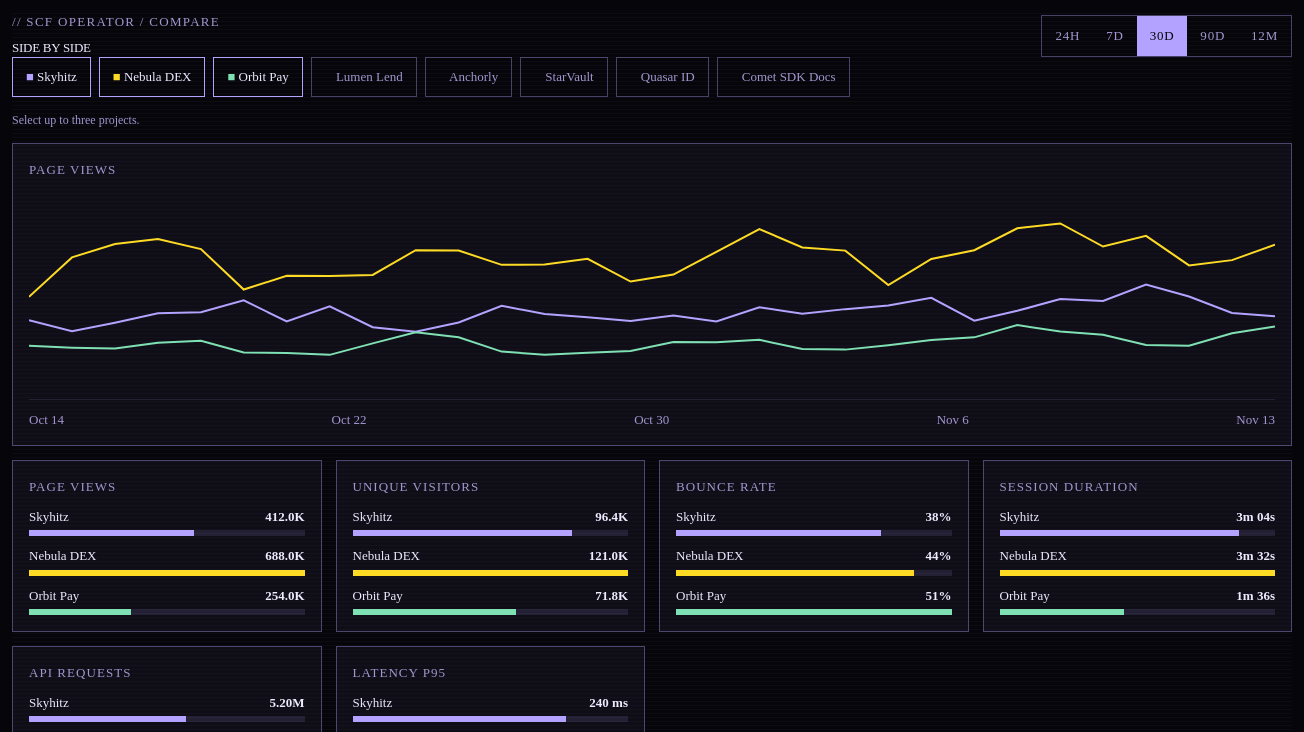
Test case: CompareScreen › draws one line per selected project
Click the button "■ Orbit Pay": (258, 77) x1=214 y1=57 x2=303 y2=97
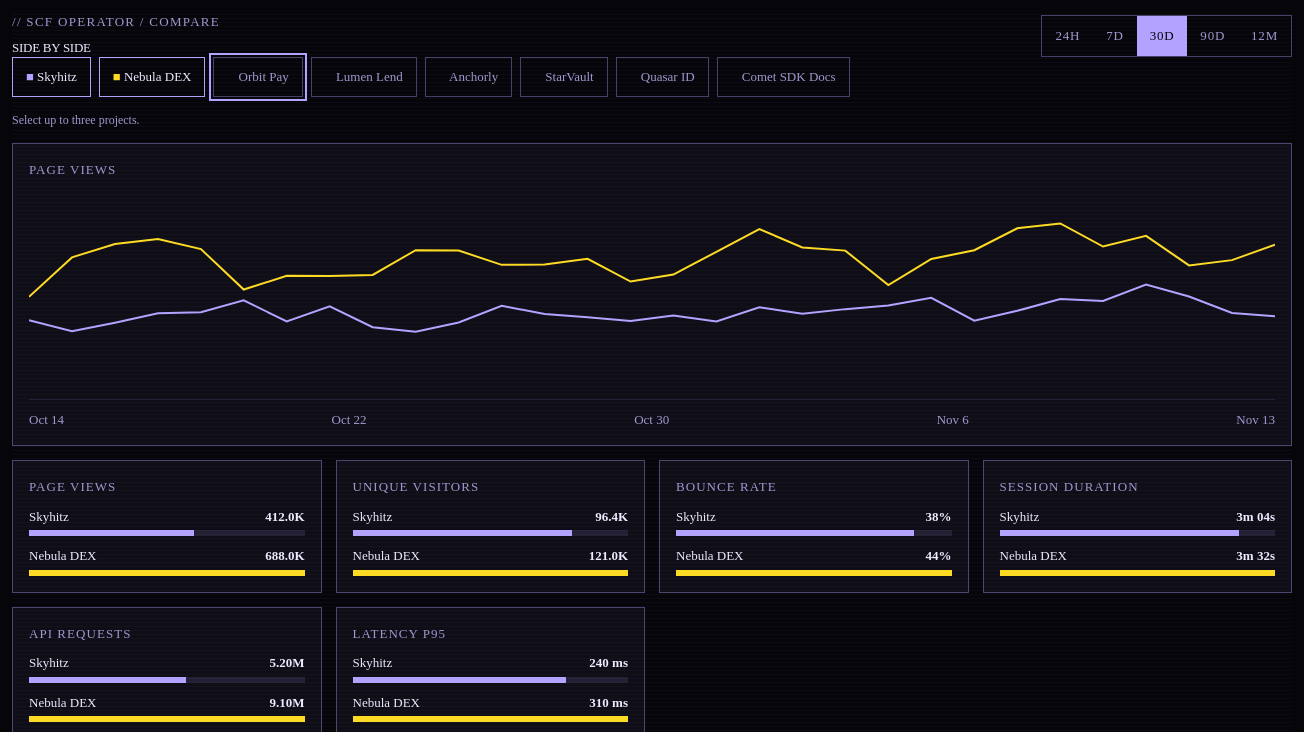
Expected: the button "■ Orbit Pay" is not pressed, x1=214 y1=57 x2=303 y2=97
